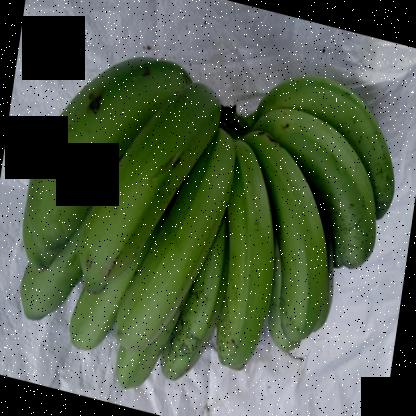freshunripe: (113, 141, 240, 348)
unripe: (20, 51, 184, 258), (72, 89, 217, 300), (263, 116, 385, 278), (250, 139, 326, 345), (218, 131, 275, 372)
